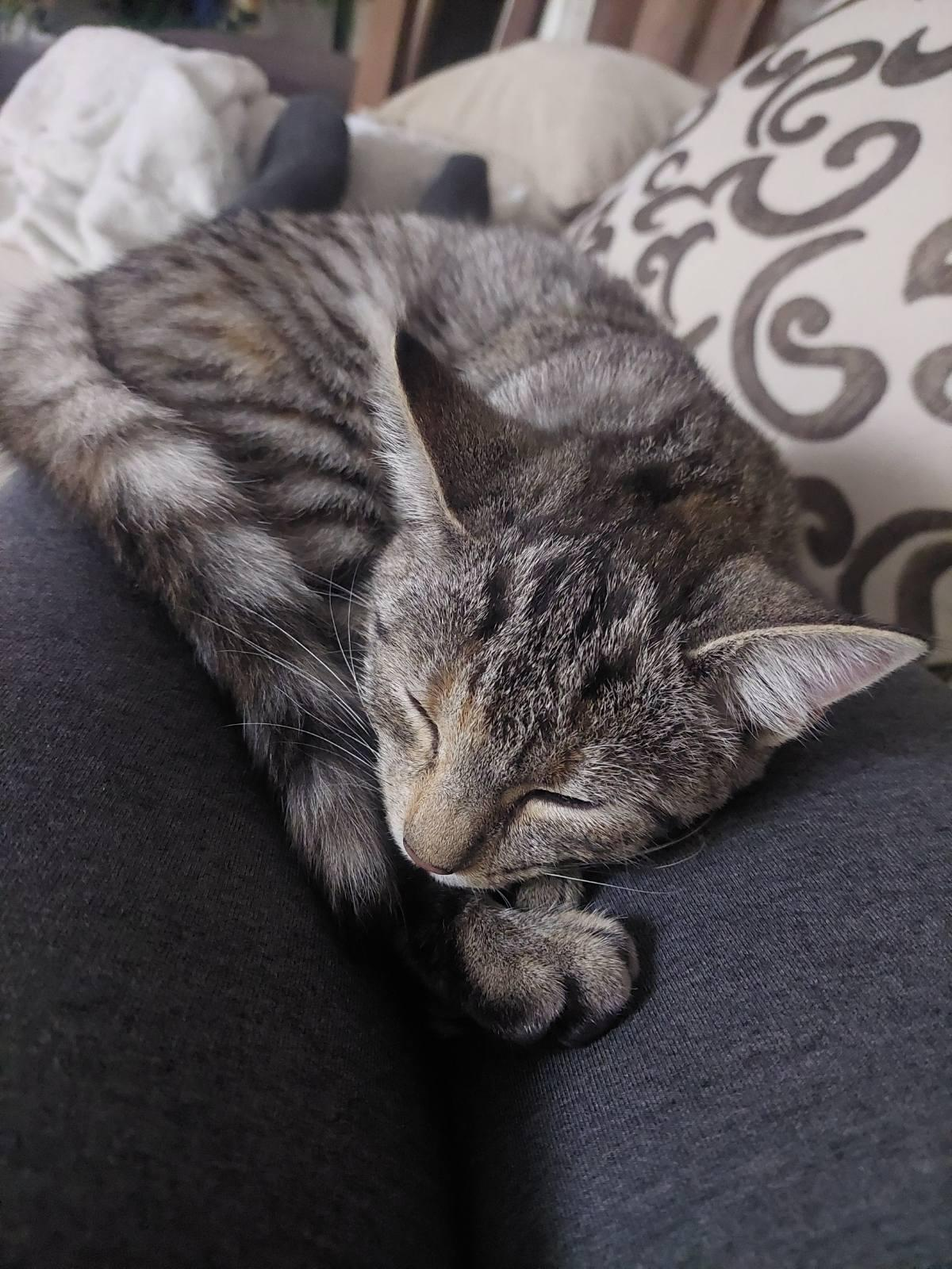macka: (0, 216, 931, 1045)
